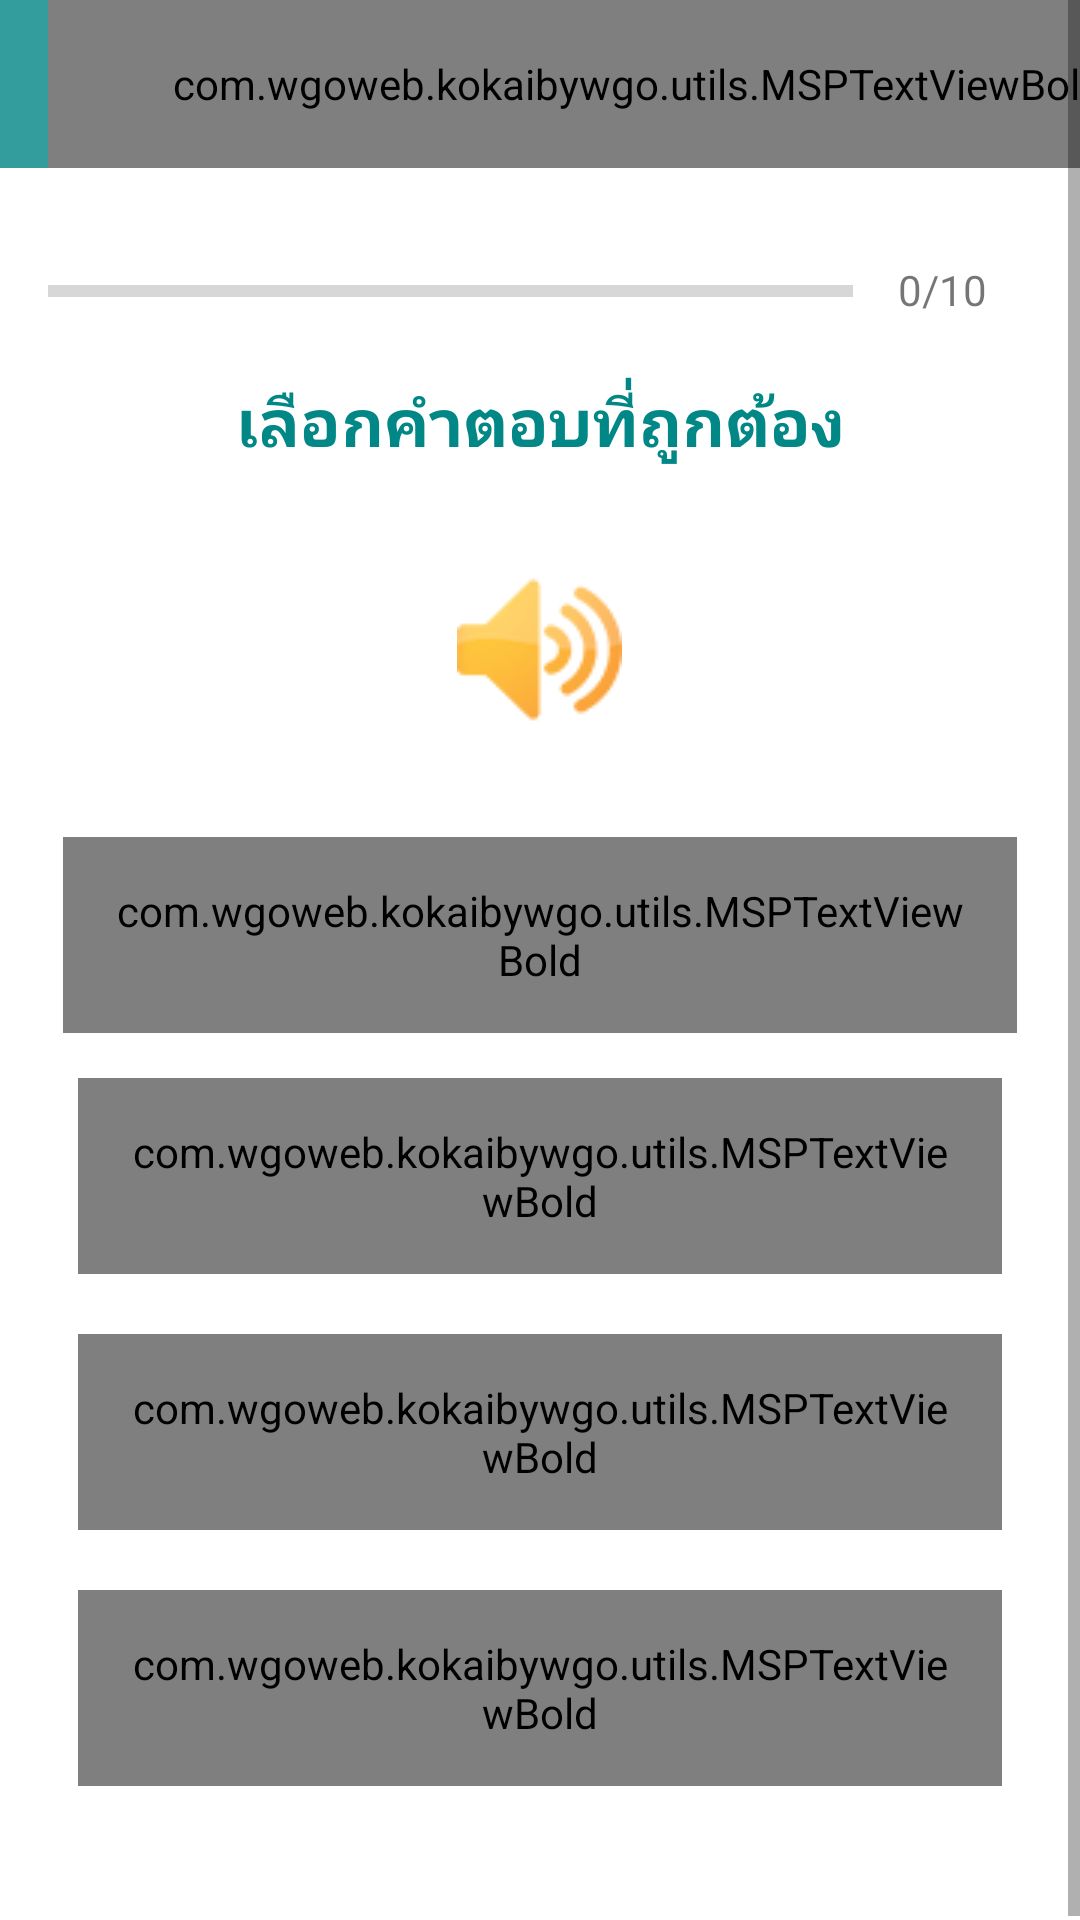

Icons on this 1080×1920 Android screen, each with its box as (x1, y1, x2, y2):
sound on: (457, 578, 622, 721)
